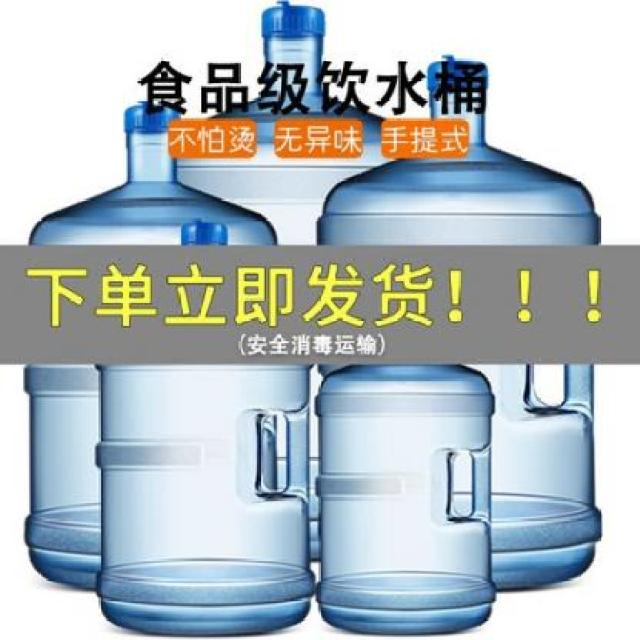coolerbottle: (318, 360, 497, 635)
